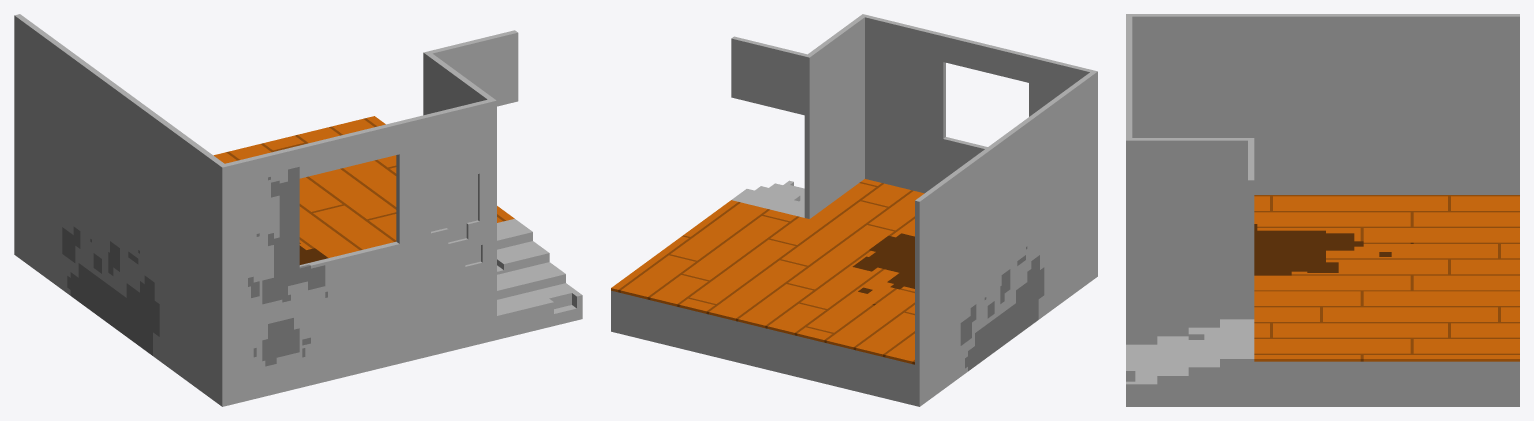
The model's file is 2x2 first 1(1)-1.obj.
3 renders of one model, left to right at view 1: azimuth 30°, elevation 25°; view 2: azimuth 150°, elevation 25°; view 3: azimuth 270°, elevation 25°, orthographic. The views are drawn at different scales.
Visible parts, largest first — view 1: 2x2 first 1(1)-1; view 2: 2x2 first 1(1)-1; view 3: 2x2 first 1(1)-1.
Boxes of the visible parts, x1,y1,x2,y2 form: 2x2 first 1(1)-1: (14, 14, 582, 406); 2x2 first 1(1)-1: (611, 14, 1097, 406); 2x2 first 1(1)-1: (1126, 14, 1519, 406).
Bounding box in the file's own units: 126 × 80 × 126.
Materials: 1 (1 with a texture image).
